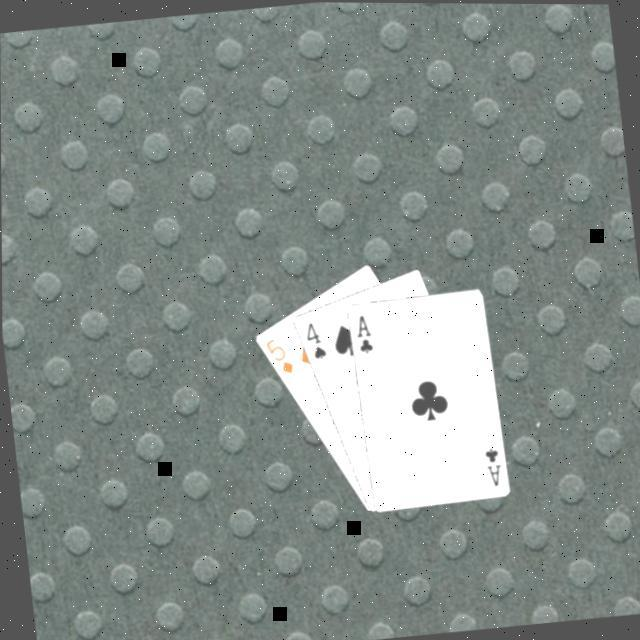4S: (301, 315, 330, 361)
5D: (262, 330, 296, 375)
AC: (481, 439, 506, 486), (352, 307, 376, 353)
